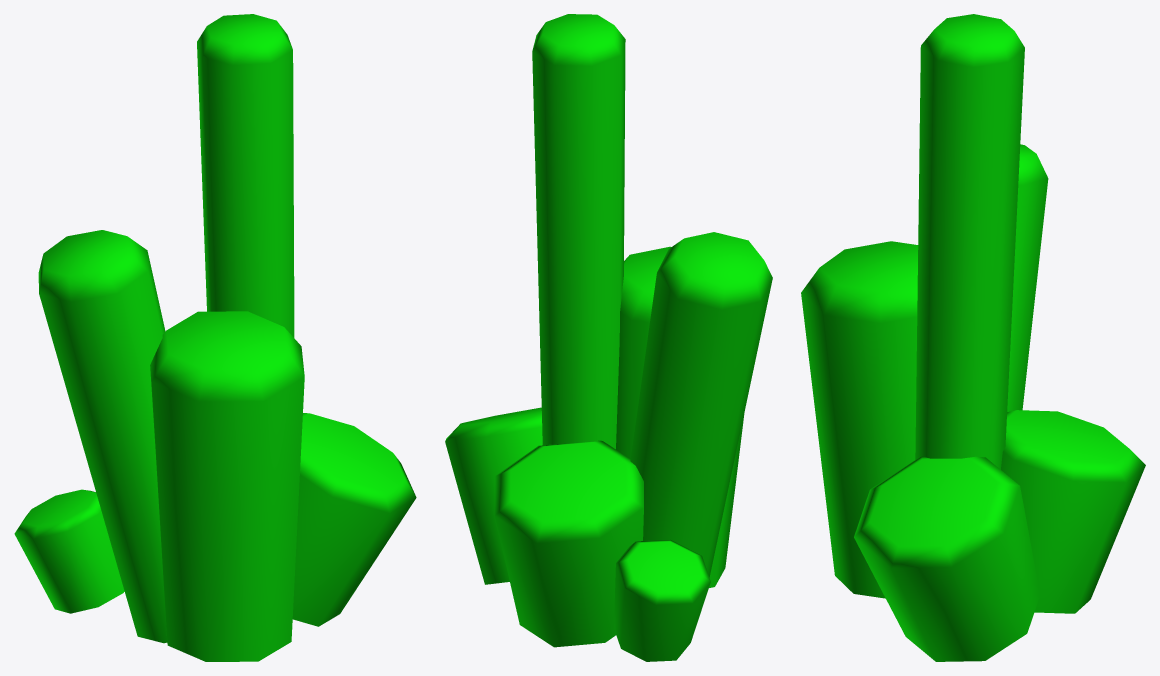
Rendered from m_crystal3.fbx.
3 renders of one model, left to right at view 1: azimuth 30°, elevation 25°; view 2: azimuth 150°, elevation 25°; view 3: azimuth 270°, elevation 25°, orthographic. The views are drawn at different scales.
Visible parts, largest first — view 1: m_crystals3; view 2: m_crystals3; view 3: m_crystals3.
Part boxes in pixels (x1,y1,x2,y2): m_crystals3: [14, 14, 416, 661]; m_crystals3: [445, 14, 772, 661]; m_crystals3: [801, 14, 1145, 661].
Size of the model in its own units: 1.38 by 2.27 by 1.19.
